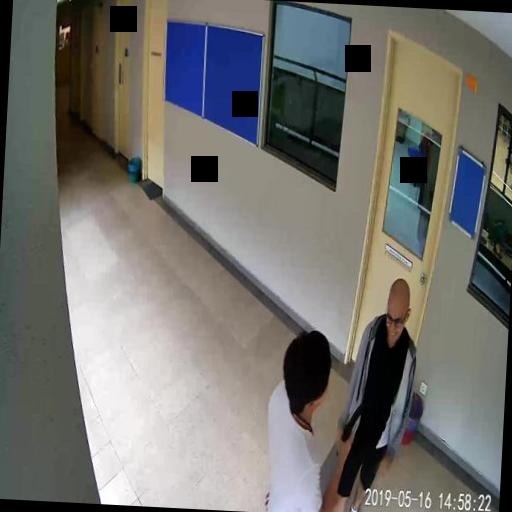Handgun: (338, 398, 364, 442)
